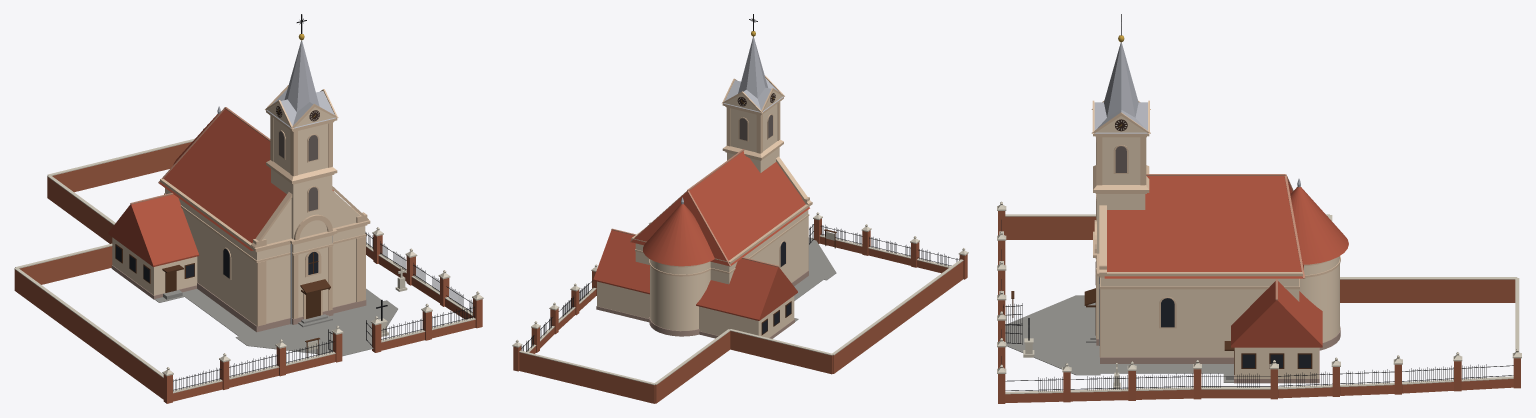
File: st-andrew.glb
The picture shows the model from 3 angles, left to right: view 1: azimuth 30°, elevation 25°; view 2: azimuth 150°, elevation 25°; view 3: azimuth 270°, elevation 25°; orthographic projection. The views are drawn at different scales.
Parts seen in each view (by area): view 1: StAndrew; view 2: StAndrew; view 3: StAndrew.
Part boxes in pixels (x1,y1,x2,y2): StAndrew: [14, 14, 483, 403]; StAndrew: [512, 14, 968, 403]; StAndrew: [997, 14, 1521, 403].
Size of the model in its own units: 31.84 by 28.9 by 42.34.
